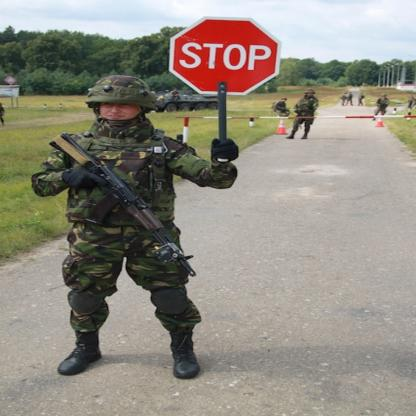Helmet: (85, 72, 159, 127), (301, 88, 318, 96), (277, 94, 291, 100), (381, 92, 390, 98)
